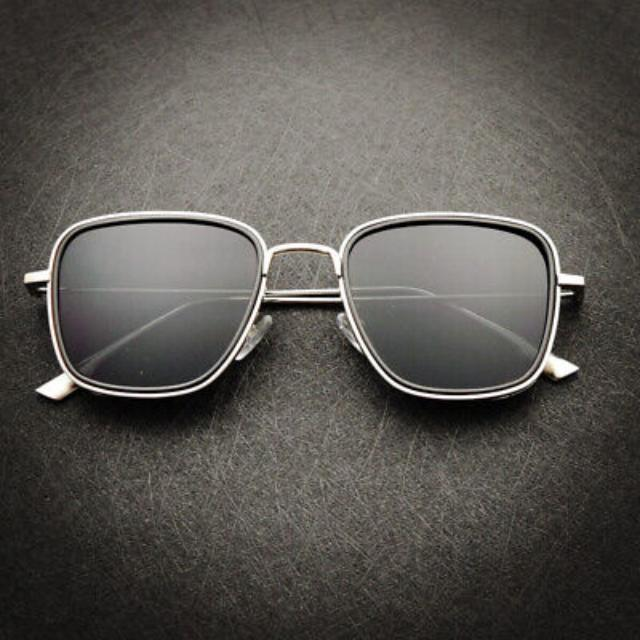glasses: (24, 210, 586, 408)
